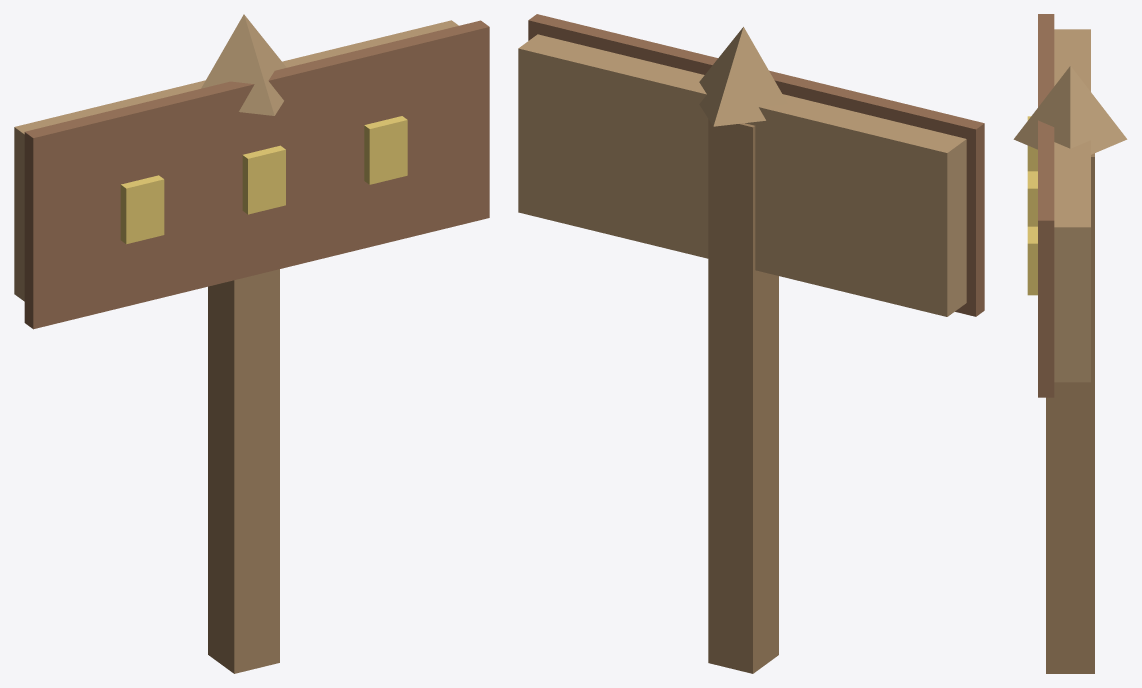
File: sign.glb
3 renders of one model, left to right at view 1: azimuth 30°, elevation 25°; view 2: azimuth 150°, elevation 25°; view 3: azimuth 270°, elevation 25°, orthographic. The views are drawn at different scales.
Visible parts, largest first — view 1: trim, post.006, board, cap.002, glyph, glyph.001, glyph.002; view 2: board, post.006, trim, cap.002; view 3: post.006, board, trim, cap.002, glyph.002, glyph.001, glyph.
Boxes of the visible parts, x1=… form: trim: x1=24, y1=20, x2=489, y2=329; post.006: x1=208, y1=269, x2=279, y2=673; board: x1=14, y1=20, x2=458, y2=301; cap.002: x1=201, y1=14, x2=286, y2=115; glyph: x1=120, y1=175, x2=164, y2=244; glyph.001: x1=242, y1=145, x2=285, y2=214; glyph.002: x1=364, y1=116, x2=407, y2=184; board: x1=518, y1=34, x2=966, y2=316; post.006: x1=708, y1=119, x2=778, y2=673; trim: x1=528, y1=14, x2=984, y2=316; cap.002: x1=699, y1=27, x2=787, y2=126; post.006: x1=1046, y1=153, x2=1094, y2=673; board: x1=1054, y1=29, x2=1090, y2=382; trim: x1=1038, y1=14, x2=1054, y2=397; cap.002: x1=1013, y1=66, x2=1127, y2=154; glyph.002: x1=1027, y1=226, x2=1037, y2=295; glyph.001: x1=1027, y1=171, x2=1037, y2=226; glyph: x1=1027, y1=116, x2=1037, y2=171.
Size of the model in its own units: 1.2 by 1.62 by 0.28.
